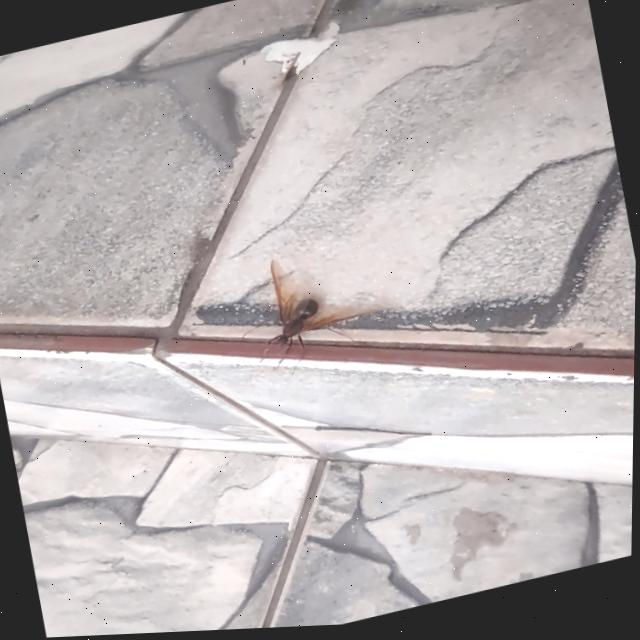Alive-Male-Alate: (230, 238, 399, 388)
